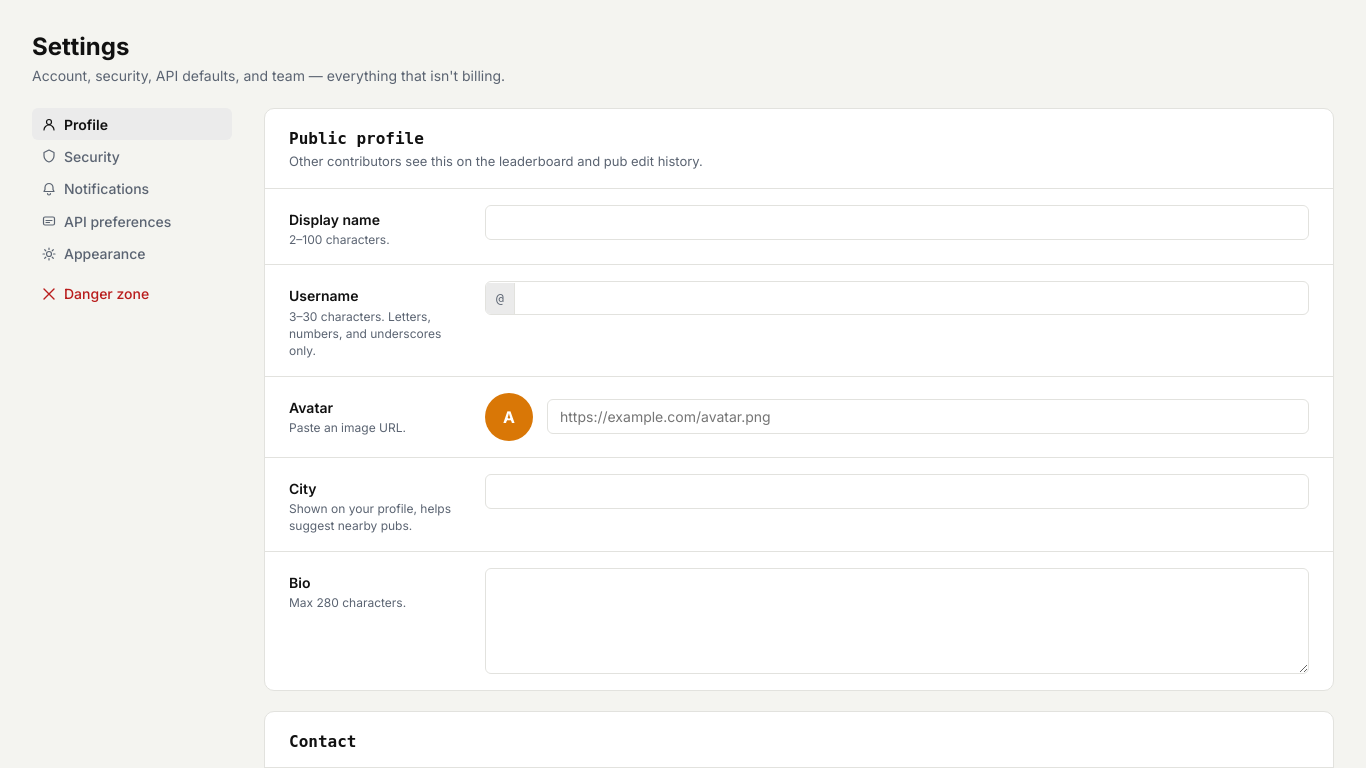
Test: SettingsPage › shows 'Password is required.' for a 400 response with errors
The width and height of the screenshot is (1366, 768).
Click the button "Danger zone": x=132, y=294 left=32, top=278, right=232, bottom=310
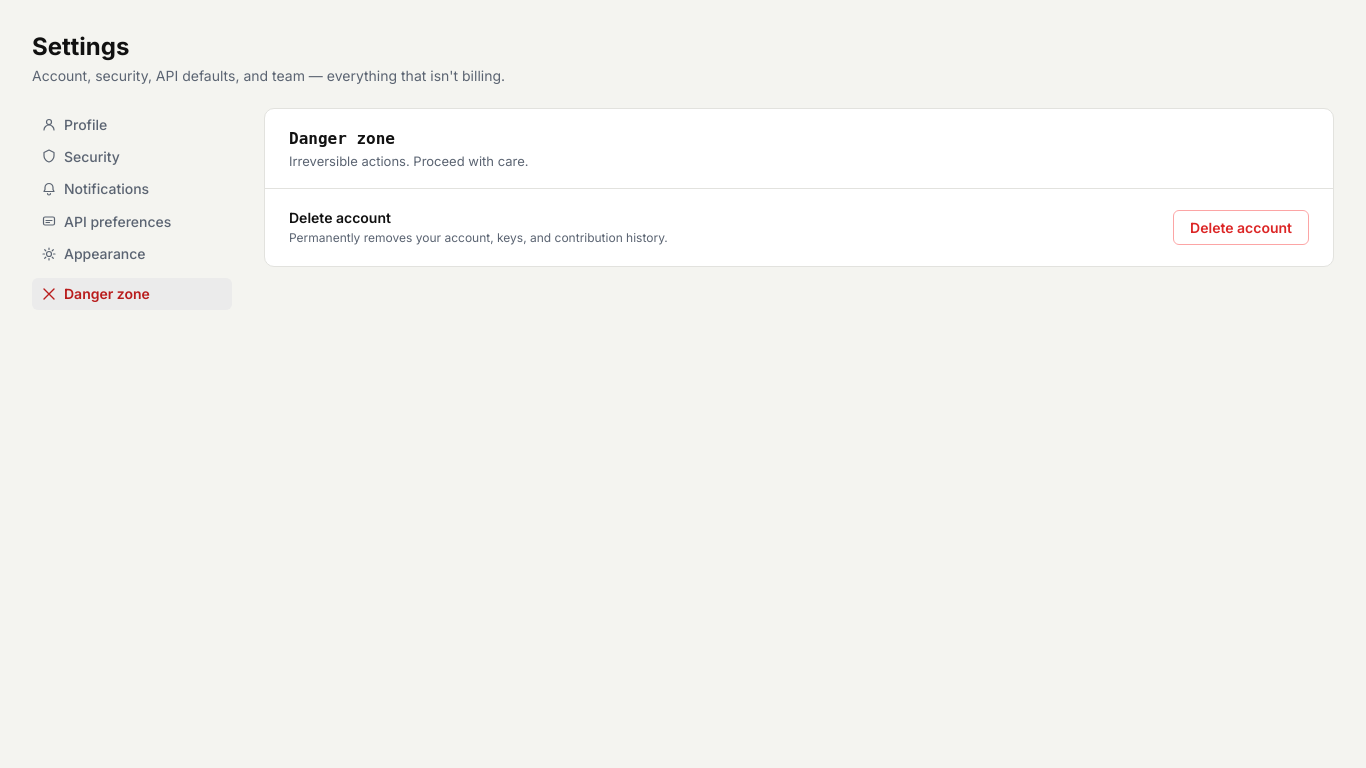
Click the button "Delete account": x=1241, y=228 left=1173, top=210, right=1309, bottom=245
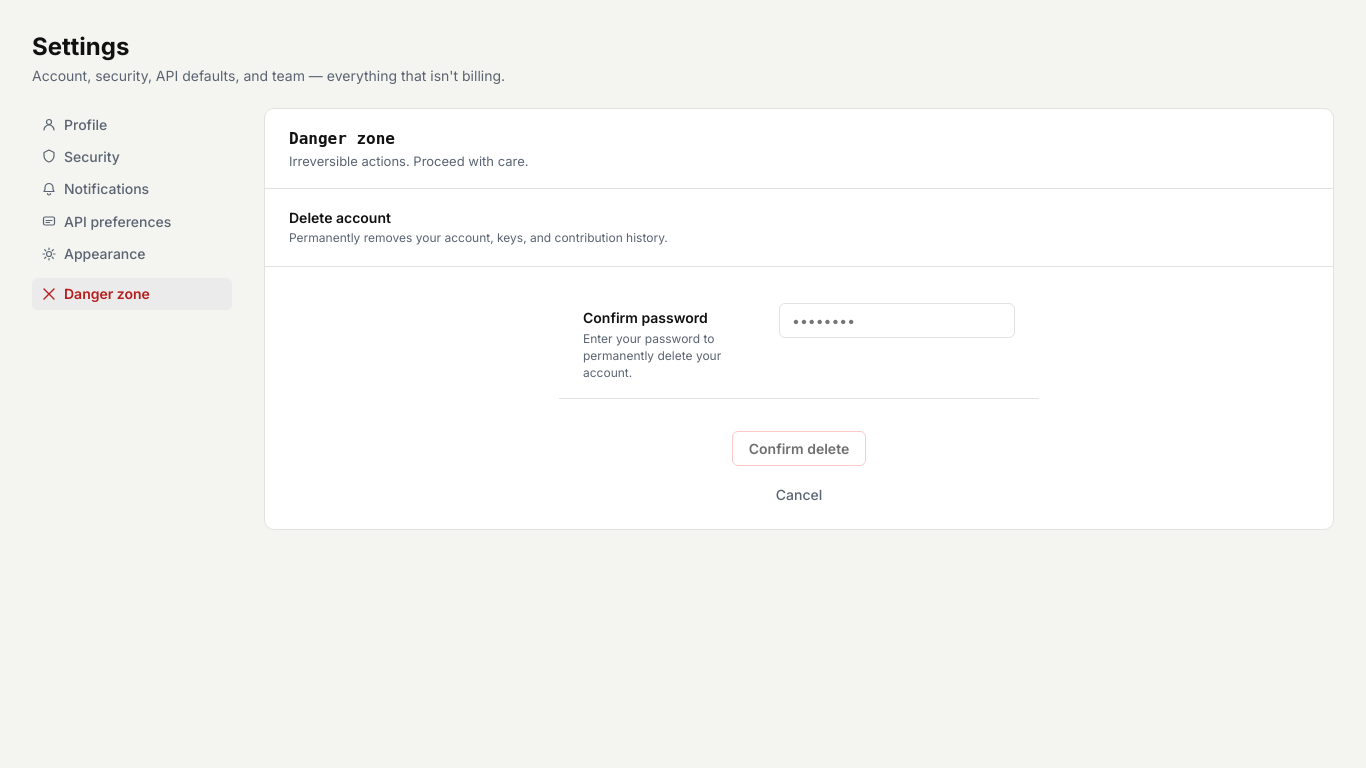
In the password field with placeholder "••••••••": x=897, y=321 left=779, top=304, right=1015, bottom=338, type "x"
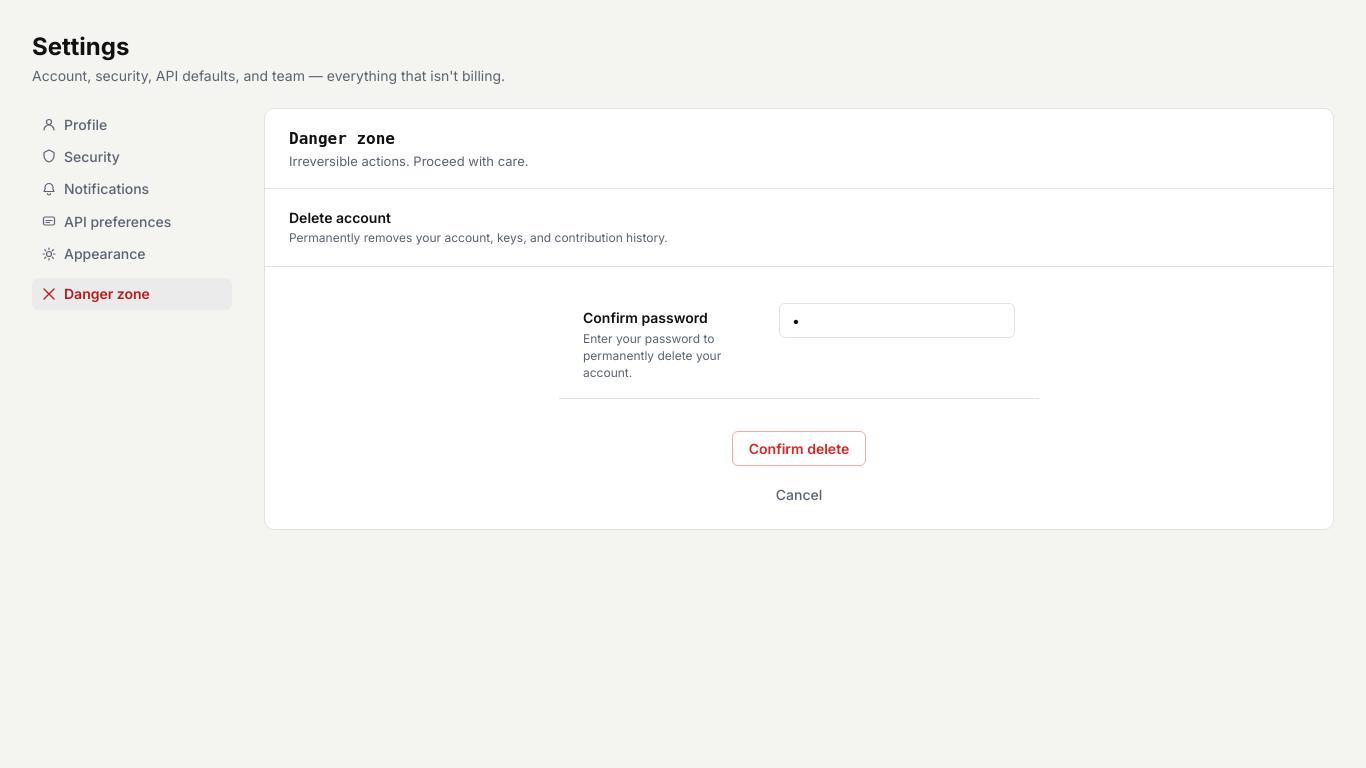
Submit the form named "Confirm delete", box left=559, top=288, right=1039, bottom=509
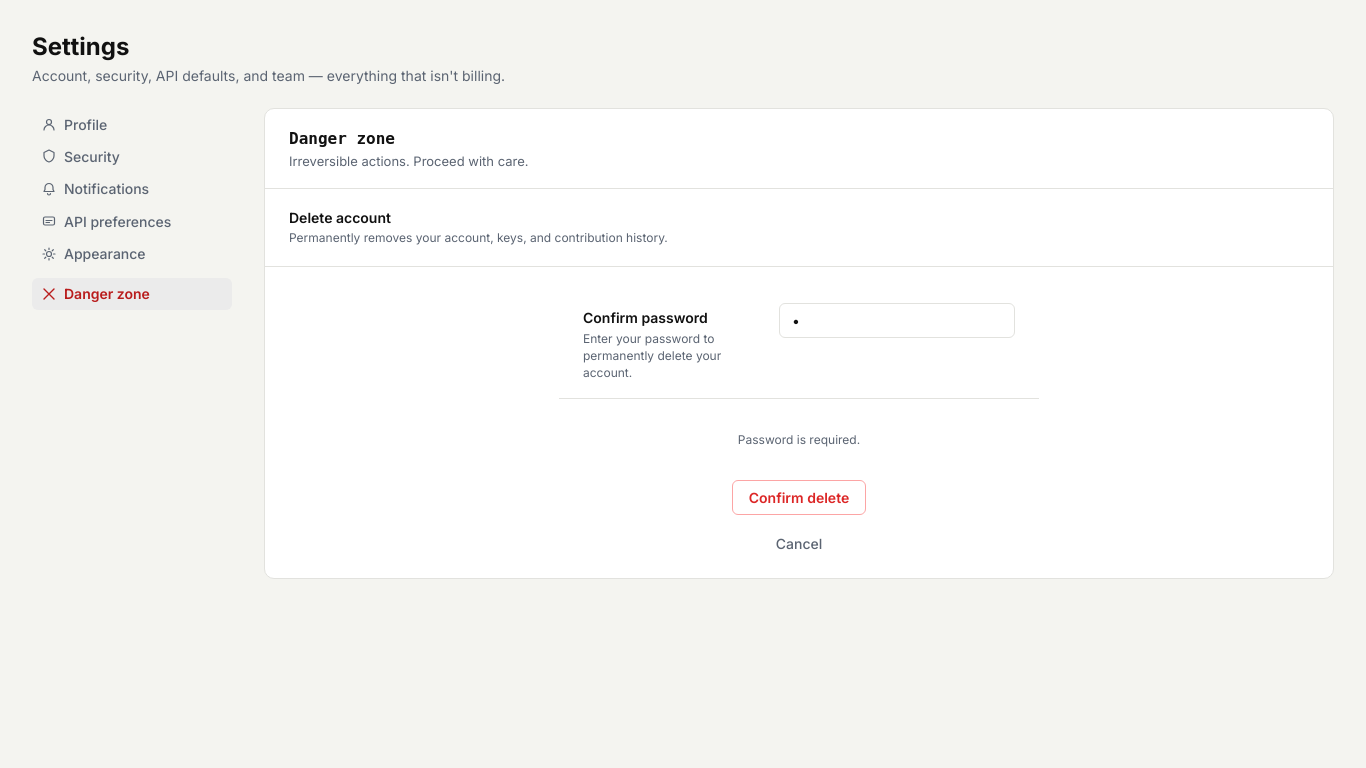
Check: the text "Password is required." is shown, box left=738, top=431, right=860, bottom=448
